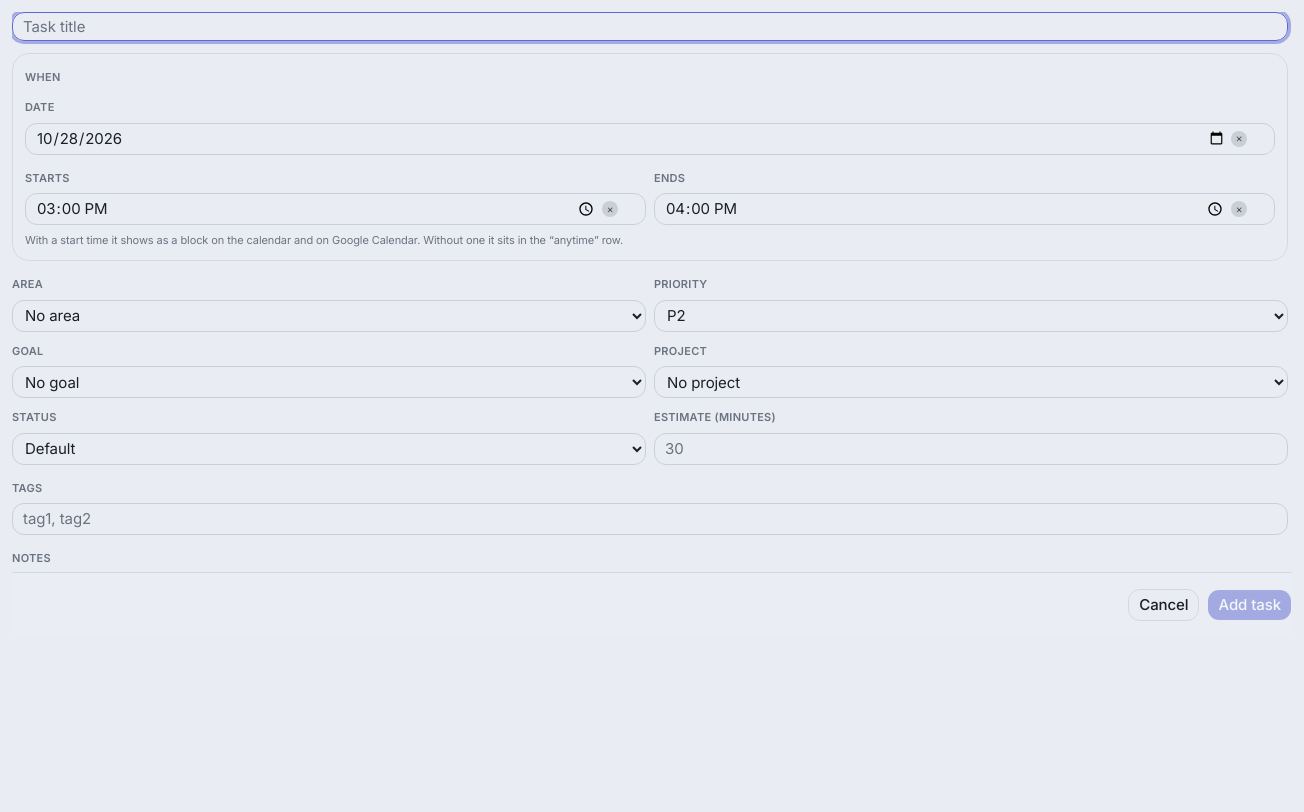
TaskCreateForm › refuses an end before the start
Type "x" into the field with placeholder "Task title" at (650, 26), box 12,12 -> 1288,41
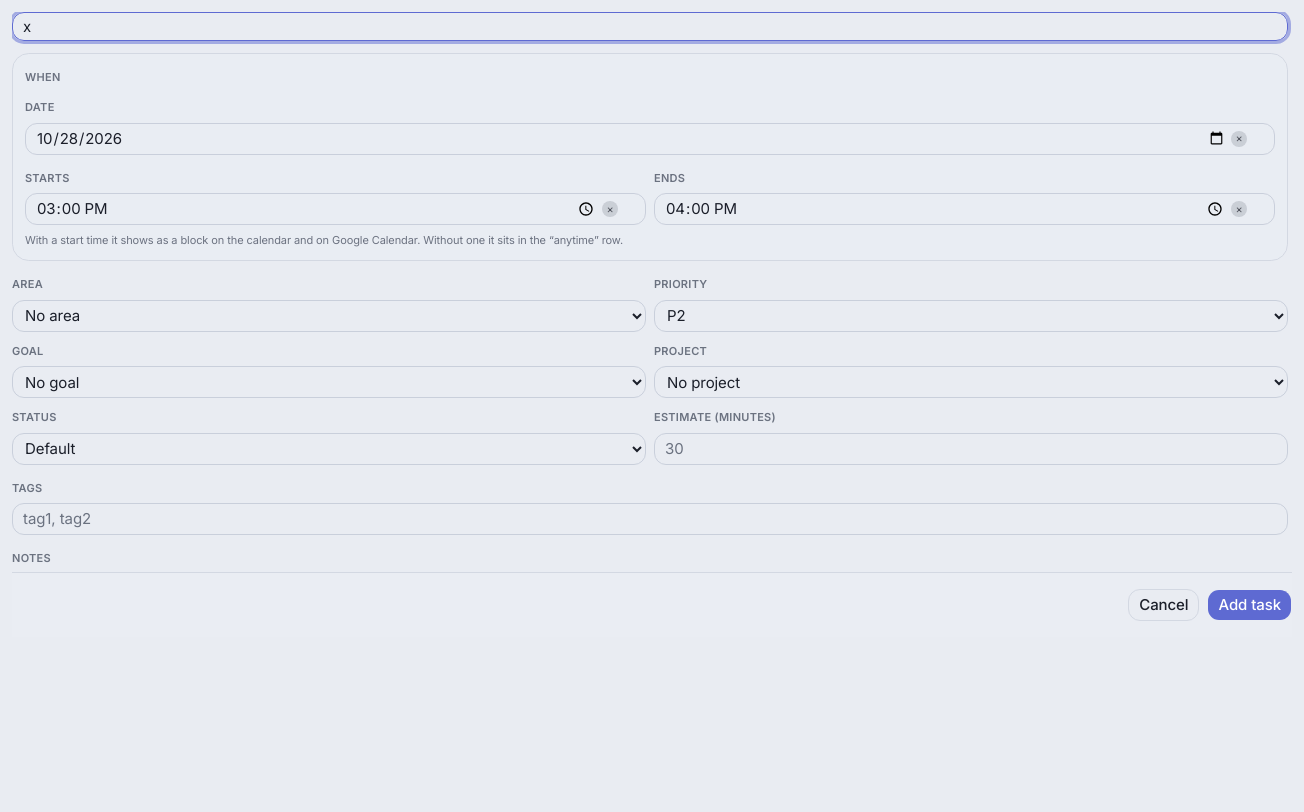
Replace the text in the time field labelled "Ends" with "14:00" at (964, 209), box 654,193 -> 1275,225
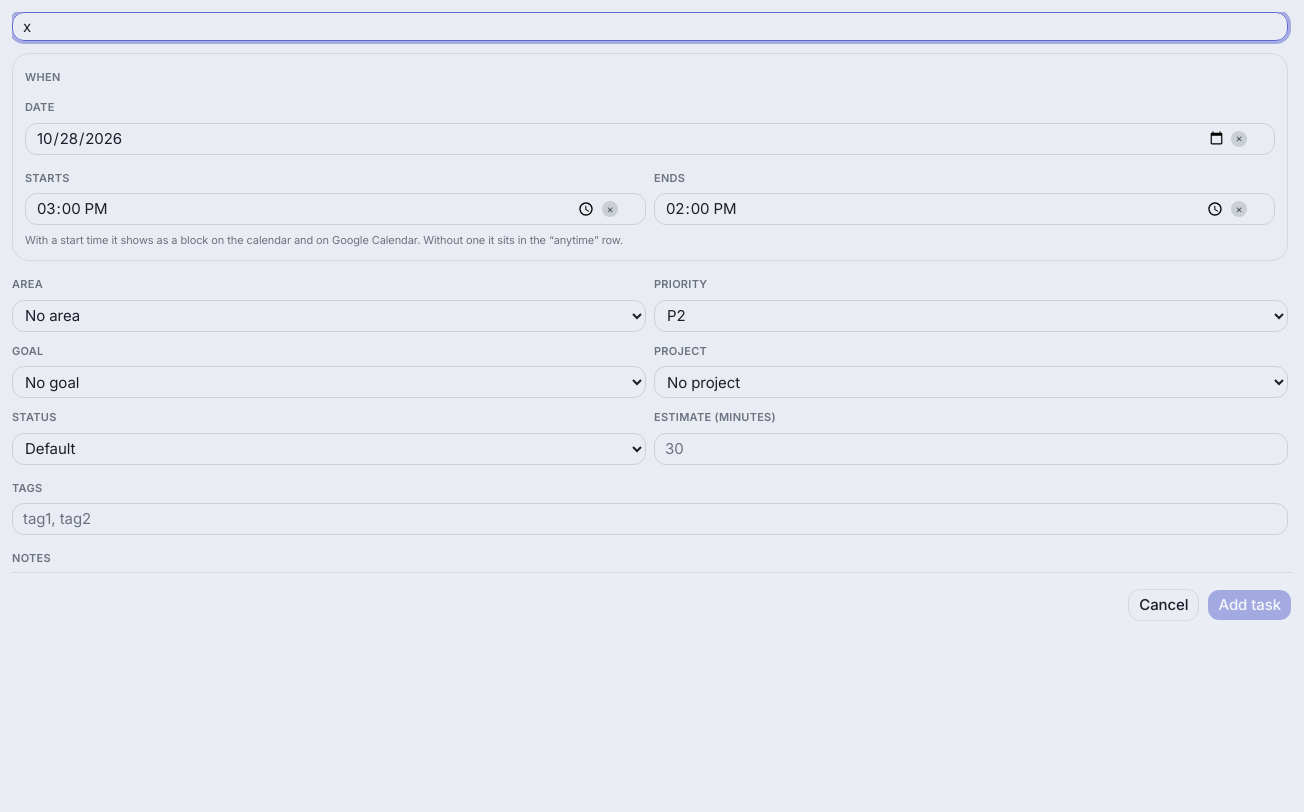
Expected: the button "Add task" is disabled, 1208,589 -> 1292,621
